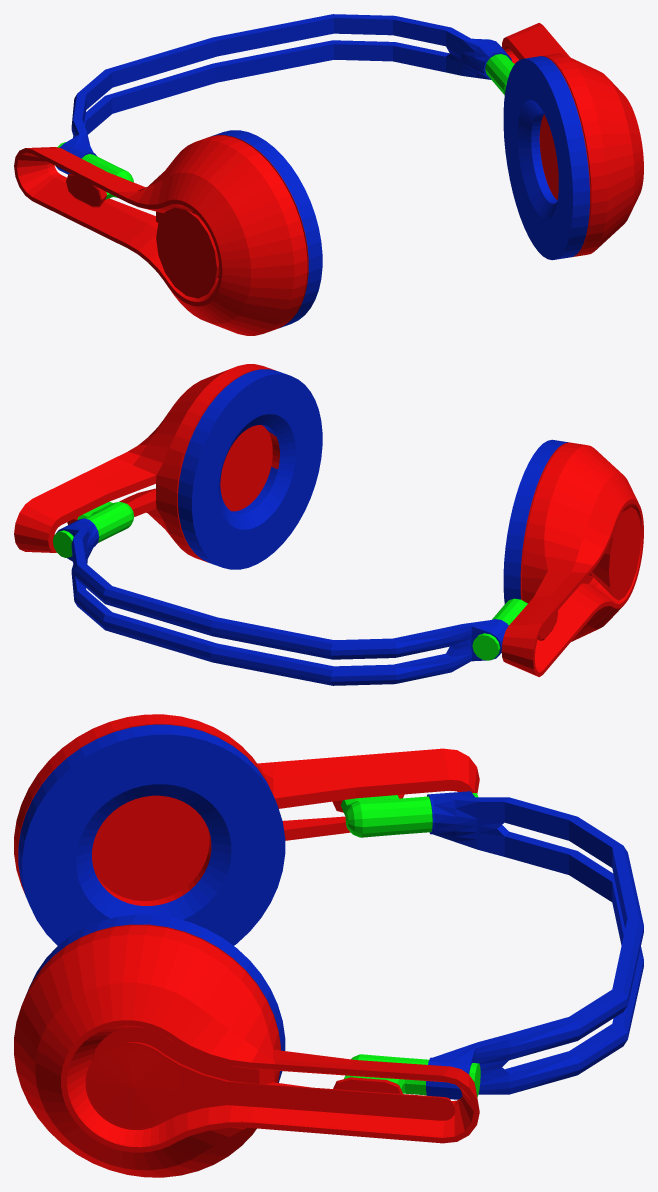
Rendered from Headphone_Rave_room_02.FBX.
The picture shows the model from 3 angles, top to bottom: view 1: azimuth 30°, elevation 25°; view 2: azimuth 150°, elevation 25°; view 3: azimuth 270°, elevation 25°; orthographic projection. The views are drawn at different scales.
Visible parts, largest first — view 1: Futu_Headphones, Head_black; view 2: Head_black, Futu_Headphones; view 3: Futu_Headphones, Head_black.
Part boxes in pixels (left/top/right/bottom): Futu_Headphones: left=14, top=23, right=643, bottom=335; Head_black: left=55, top=14, right=589, bottom=328; Head_black: left=56, top=369, right=568, bottom=685; Futu_Headphones: left=14, top=364, right=643, bottom=676; Futu_Headphones: left=14, top=714, right=480, bottom=1177; Head_black: left=18, top=724, right=643, bottom=1099.
Bounding box in the file's own units: 62.65 × 21.29 × 50.14.
